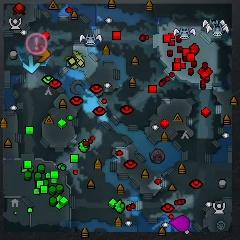Other: (26, 32, 47, 55)
p3: (169, 215, 190, 232)
x2: (66, 50, 84, 69)
x3: (22, 54, 40, 74)
x5: (33, 46, 50, 63)
